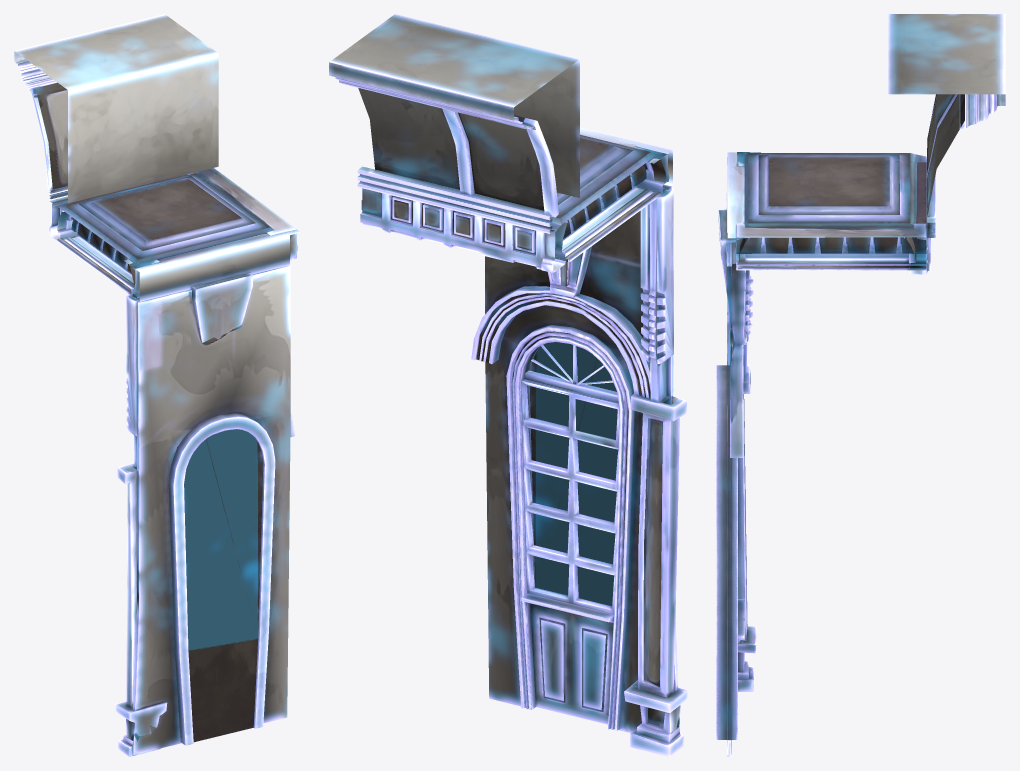
The model's file is pared_museo_lp.fbx.
3 views of the same model, side by side, from view 1: azimuth 30°, elevation 25°; view 2: azimuth 150°, elevation 25°; view 3: azimuth 270°, elevation 25° (orthographic). The views are drawn at different scales.
Parts seen in each view (by area): view 1: pared_recta; view 2: pared_recta; view 3: pared_recta.
Part boxes in pixels (x1,y1,x2,y2): pared_recta: (14, 14, 300, 756); pared_recta: (329, 14, 687, 756); pared_recta: (716, 14, 1005, 756).
Size of what is drawn, in the model's own units: 454 by 1508 by 593.
